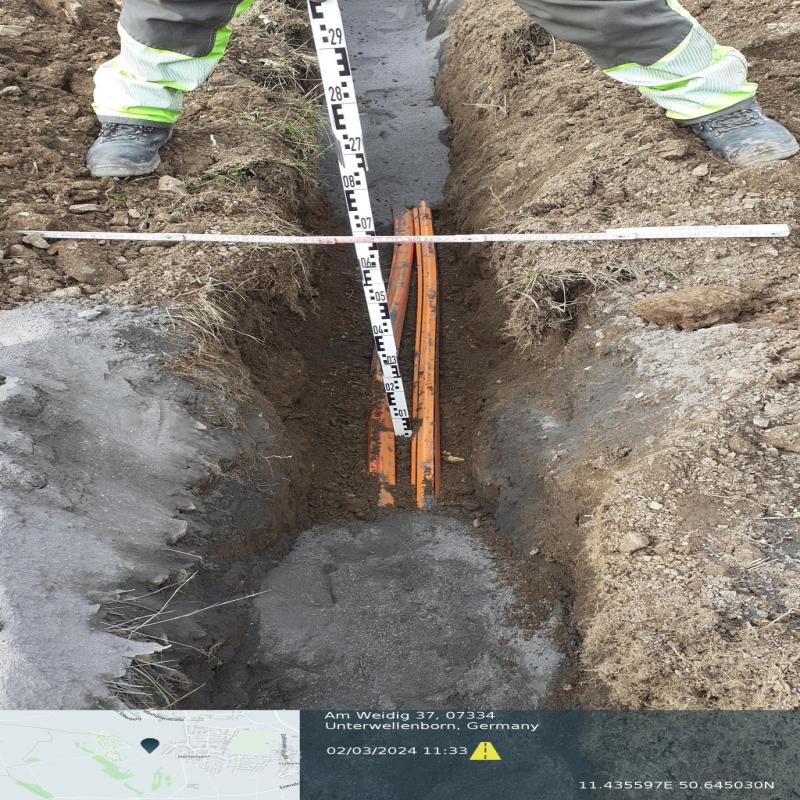Orang-Speednetrohrchen: (372, 211, 437, 495)
